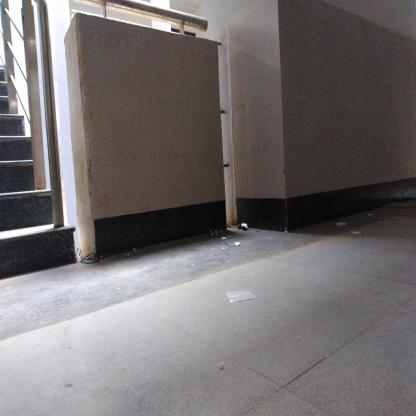stairs: (1, 113, 24, 291)
